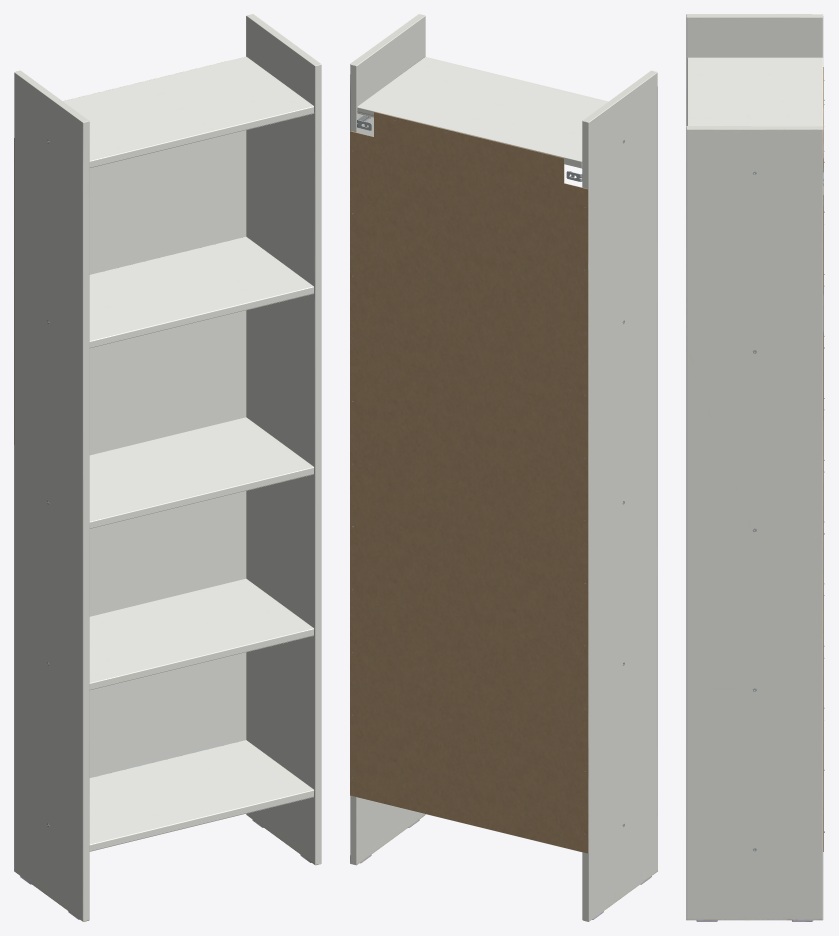
Rendered from BAGGEBO_20436713.glb.
3 views of the same model, side by side, from view 1: azimuth 30°, elevation 25°; view 2: azimuth 150°, elevation 25°; view 3: azimuth 270°, elevation 25° (orthographic).
Parts seen in each view (by area): view 1: 20436713-BAGGEBO001; view 2: 20436713-BAGGEBO001; view 3: 20436713-BAGGEBO001.
Boxes of the visible parts, x1=… form: 20436713-BAGGEBO001: x1=14, y1=14, x2=321, y2=921; 20436713-BAGGEBO001: x1=350, y1=14, x2=657, y2=921; 20436713-BAGGEBO001: x1=686, y1=14, x2=824, y2=921.
Size of the model in its own units: 0.501 by 1.6 by 0.2525.
1 material, 1 textured.
